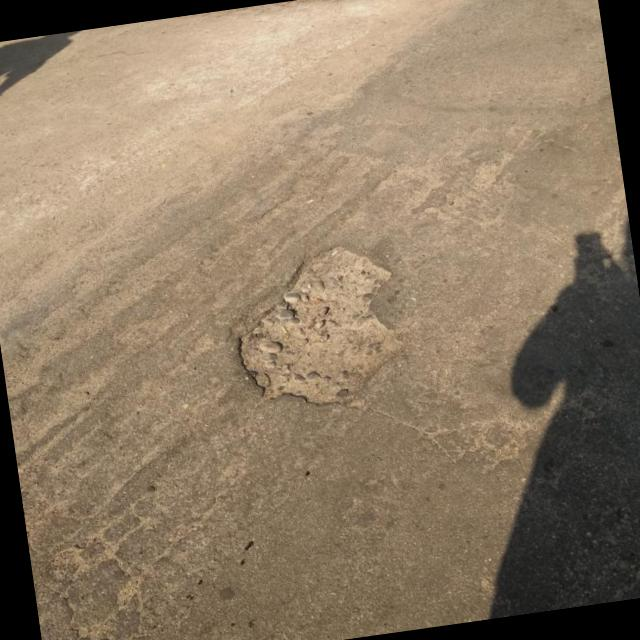Lubang: (240, 247, 401, 404)
